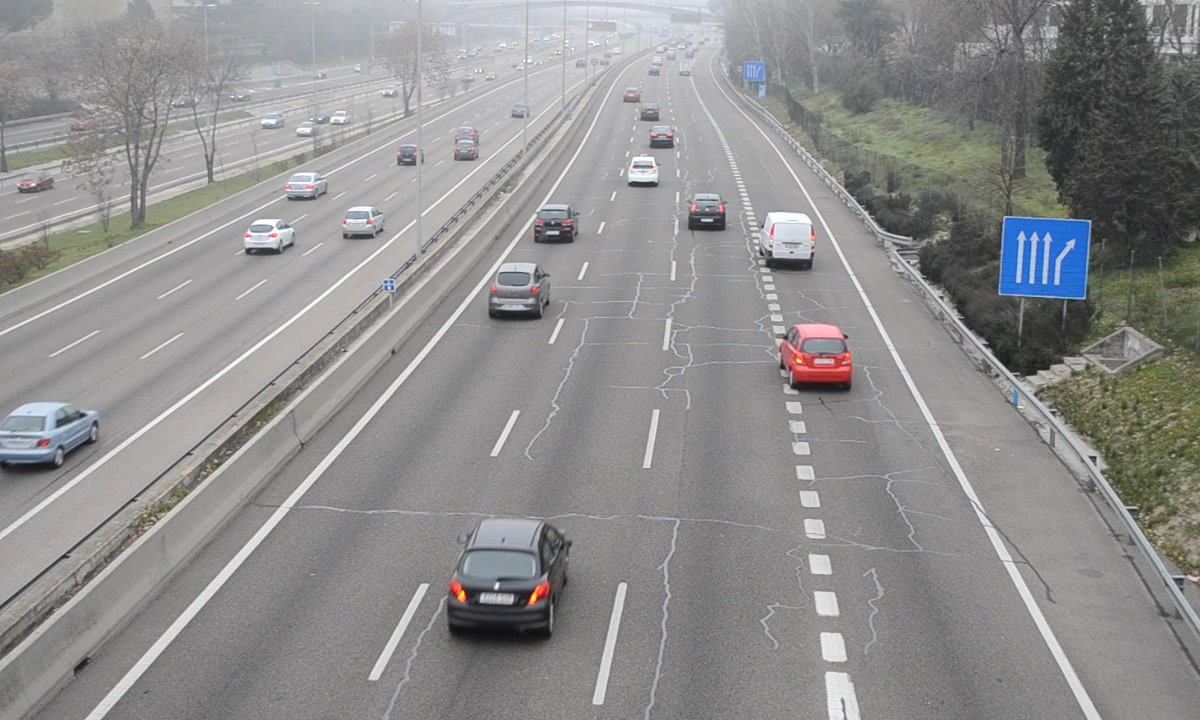car: (447, 521, 572, 634), (782, 323, 854, 387), (487, 263, 551, 315), (532, 205, 580, 245), (688, 193, 728, 232), (626, 153, 662, 187), (648, 123, 675, 148)
van: (759, 211, 817, 271)
